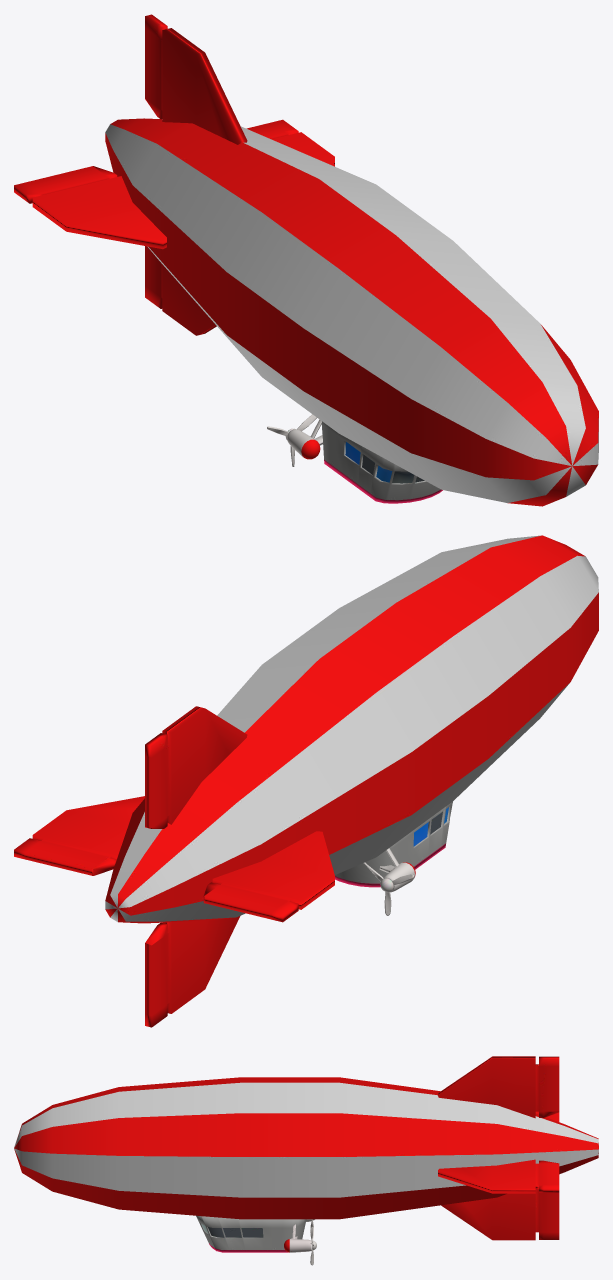
File: zeppelin_sketchfab.fbx
3 views of the same model, one above another, from view 1: azimuth 30°, elevation 25°; view 2: azimuth 150°, elevation 25°; view 3: azimuth 270°, elevation 25° (orthographic). The views are drawn at different scales.
Visible parts, largest first — view 1: zeppelin; view 2: zeppelin; view 3: zeppelin.
Boxes of the visible parts, x1,y1,x2,y2 form: zeppelin: (14,14,598,506); zeppelin: (14,535,598,1027); zeppelin: (14,1056,598,1265).
Size of the model in its own units: 2.27 by 2.42 by 6.65.
1 material, 1 textured.
